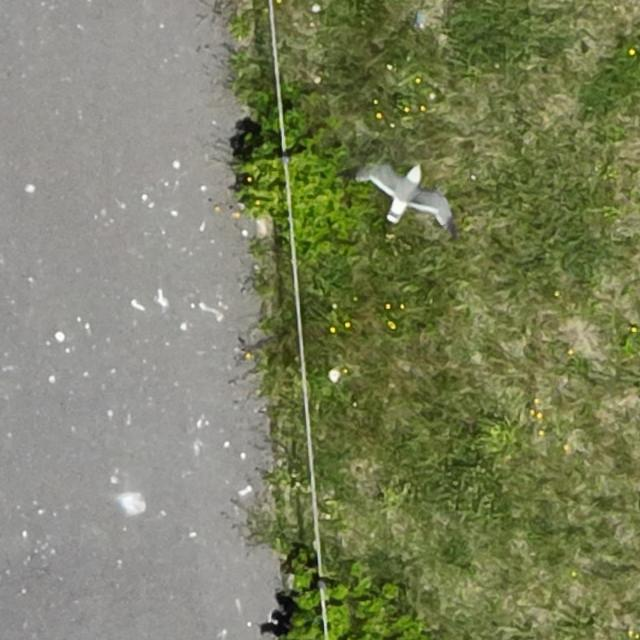F: (370, 163, 444, 221)
